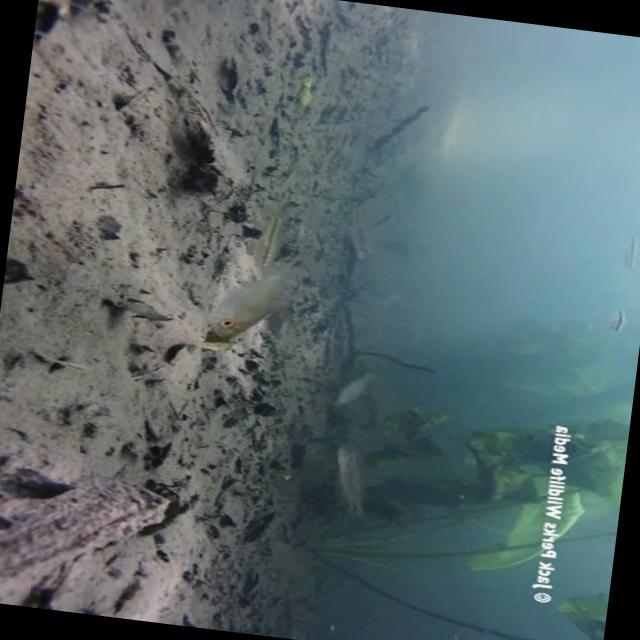Cakil Baligi: (200, 248, 310, 350)
